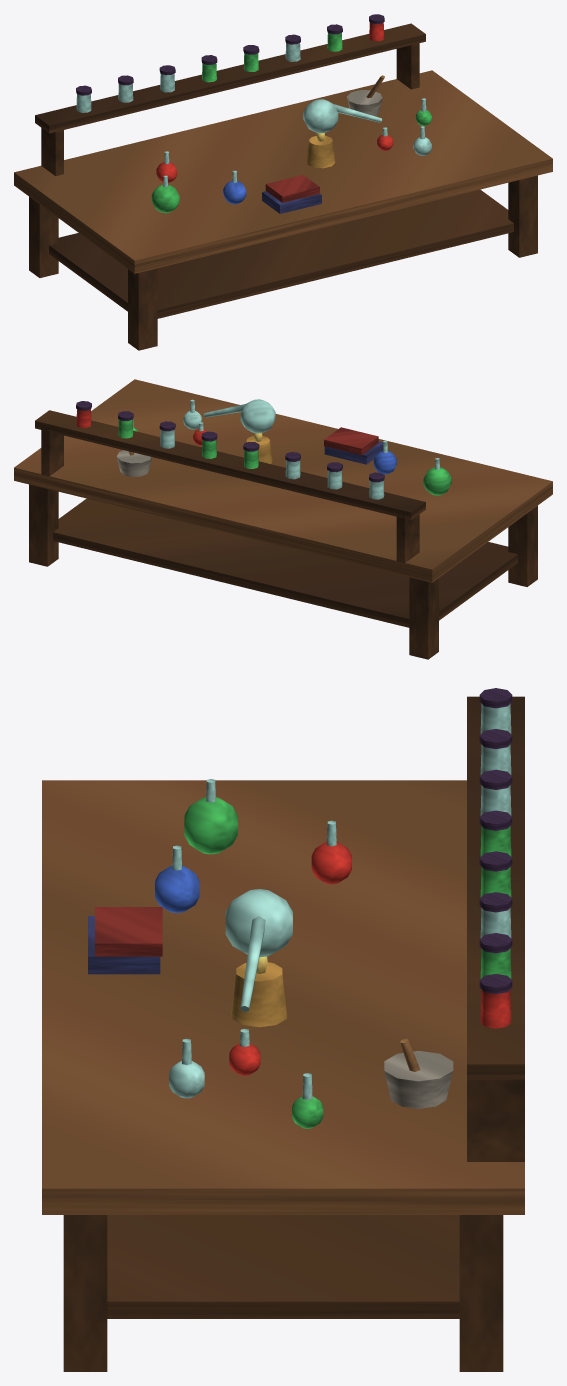
File: alembic_bench.obj
3 renders of one model, top to bottom at view 1: azimuth 30°, elevation 25°; view 2: azimuth 150°, elevation 25°; view 3: azimuth 270°, elevation 25°, orthographic. The views are drawn at different scales.
Bounding box in the file's own units: 20 × 7.75 × 10.
Materials: 1 (1 with a texture image).
